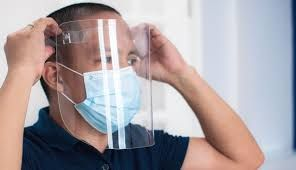with-mask: (25, 9, 170, 149)
